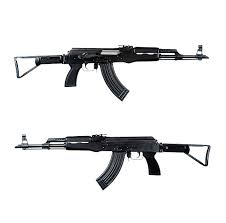gun: (14, 130, 211, 190), (11, 44, 210, 103)
